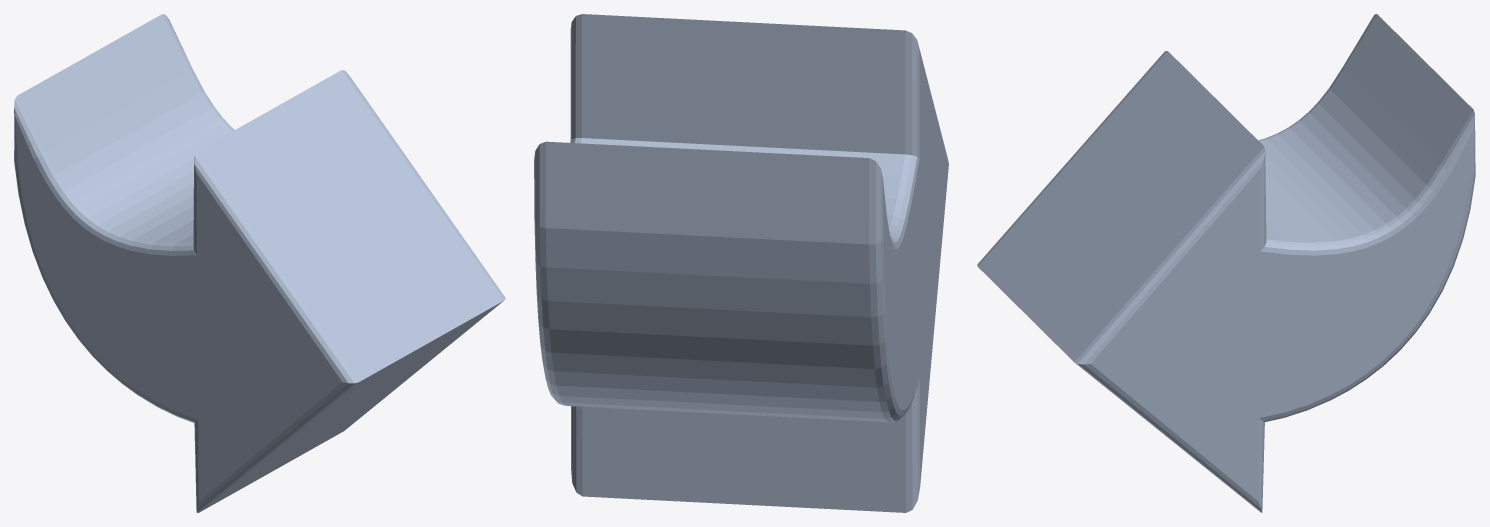
The model's file is back.glb.
3 views of the same model, side by side, from view 1: azimuth 30°, elevation 25°; view 2: azimuth 150°, elevation 25°; view 3: azimuth 270°, elevation 25° (orthographic). The views are drawn at different scales.
Visible parts, largest first — view 1: back; view 2: back; view 3: back.
Boxes of the visible parts, x1,y1,x2,y2 form: back: (14,14,505,512); back: (534,14,948,512); back: (977,14,1475,512).
Bounding box in the file's own units: 0.2155 × 0.213 × 0.2628.
